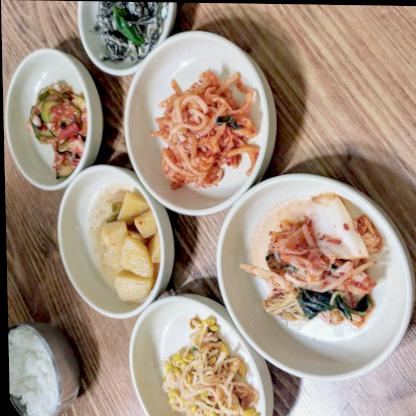Kimchi stew: (249, 202, 379, 331)
cucumber kimchi: (22, 75, 94, 178)
radish Kimchi: (79, 185, 159, 310)
rice ball: (7, 328, 71, 416)
seasoned bean sprouts: (151, 319, 255, 415)
stir-fried anchovies: (86, 1, 169, 68)
